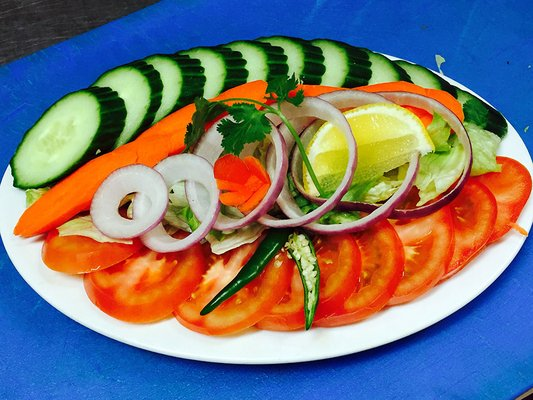pizza: (14, 102, 196, 238)
